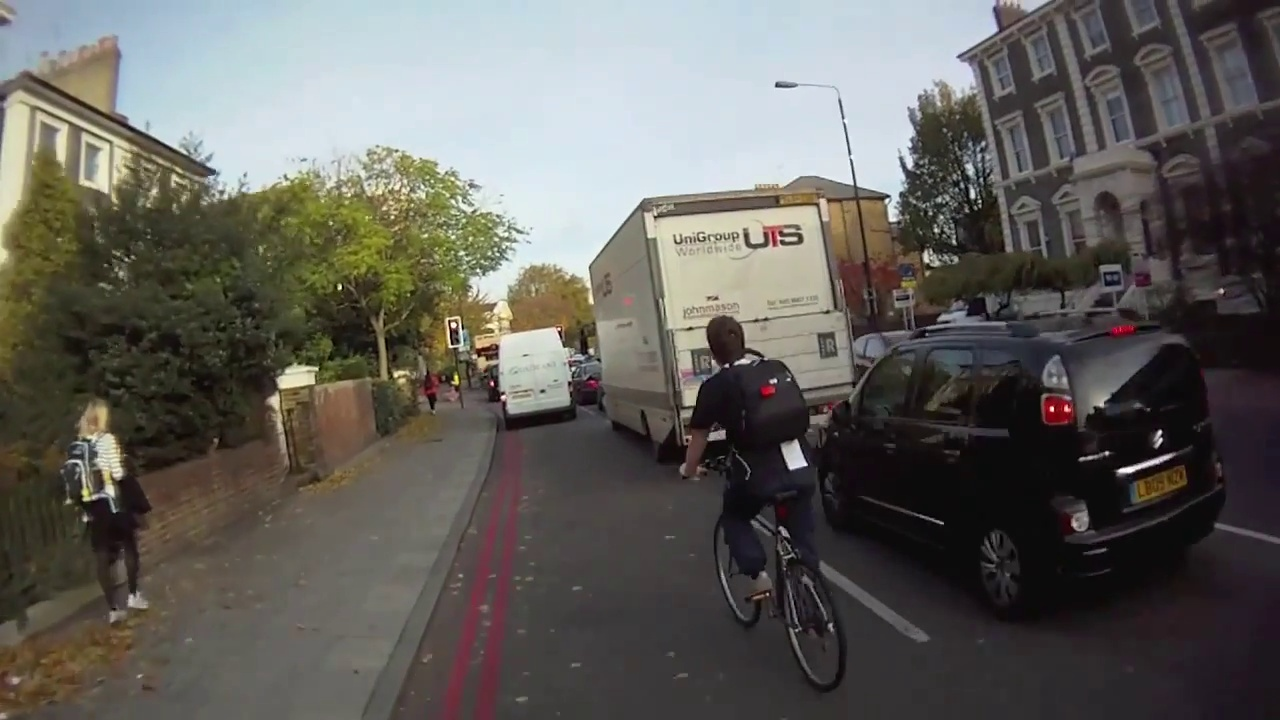cyclist_back: (678, 314, 874, 692)
